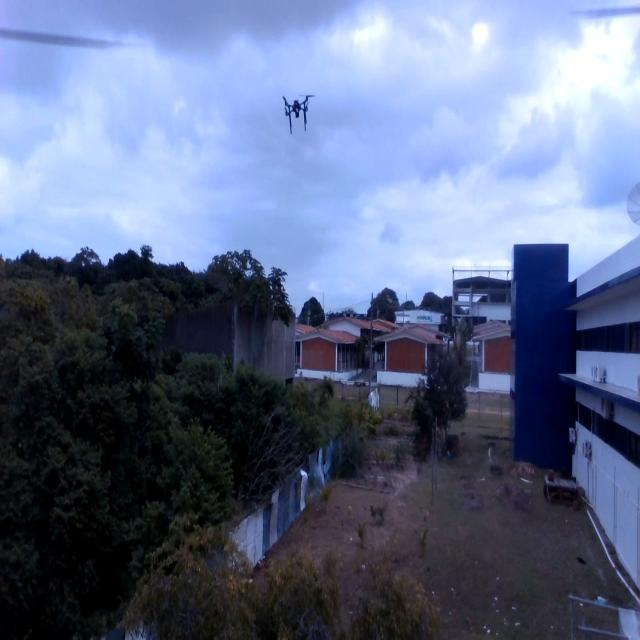-uav-: (278, 86, 320, 144)
